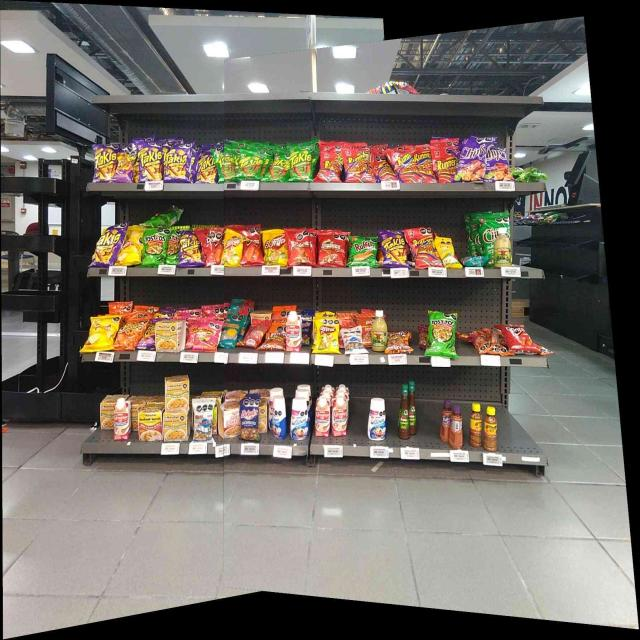bitzEnchilado90: (362, 314, 371, 348)
bitzEnchilado95: (471, 330, 507, 356)
bitzHabanero: (418, 324, 428, 348)
bokadosCacahuates: (240, 402, 260, 442), (302, 318, 310, 345)
botaneraChilito: (484, 406, 497, 451), (469, 403, 482, 448)
cheetosFlaminHot: (144, 322, 155, 343)
cheetosOriginal: (117, 323, 143, 344)
chipsFuego: (460, 143, 486, 179), (487, 147, 506, 179)
chipsJalapeno: (482, 223, 493, 256)
churrumais: (194, 325, 219, 352)
delPrimoSalsa: (494, 228, 512, 266), (372, 308, 387, 352)
doritosNacho: (507, 325, 530, 353), (245, 236, 262, 263), (204, 235, 220, 262)
fritosLimon: (313, 318, 341, 354), (264, 233, 286, 264), (225, 237, 241, 265)
leoCacahuates: (192, 397, 215, 443), (342, 326, 363, 352)
leoMix: (388, 332, 413, 354), (265, 327, 286, 350)
maruchanPollo: (156, 321, 184, 352), (165, 376, 189, 410), (163, 411, 190, 441), (100, 394, 112, 430)
maruchanRes: (138, 407, 162, 440)
nestleCarnation: (113, 398, 131, 440), (331, 396, 348, 436), (286, 311, 302, 352), (315, 396, 330, 437)
nestleLechera: (367, 397, 387, 441), (290, 398, 310, 440), (271, 395, 287, 439)
nissinRes: (220, 400, 239, 436)
productoAtras: (242, 324, 264, 346)
rancheritos: (290, 237, 314, 265), (320, 237, 342, 264)
rufflesQueso: (352, 238, 376, 266)
runners: (409, 230, 434, 266), (344, 150, 372, 182), (436, 149, 457, 181), (321, 152, 341, 182), (396, 152, 414, 182), (415, 151, 435, 178), (373, 163, 395, 180)
sabritasOriginal: (87, 319, 114, 351), (117, 242, 135, 263)
salsaBufalo: (398, 383, 410, 438), (411, 381, 416, 435)
semillasCalabaza: (441, 242, 457, 268)
semillasGirasol: (222, 320, 240, 347), (460, 257, 487, 268)
tajinDulce: (450, 405, 463, 449), (440, 398, 449, 442)
takisFuego: (138, 144, 163, 181), (164, 145, 188, 179), (381, 233, 405, 266), (96, 229, 117, 265), (94, 147, 116, 180), (181, 232, 200, 264), (197, 157, 217, 183)
takisOriginal: (290, 150, 312, 182), (241, 153, 262, 179), (218, 155, 234, 181), (268, 158, 286, 180)
tostitos: (430, 312, 455, 356), (144, 233, 166, 263), (167, 232, 179, 262)
